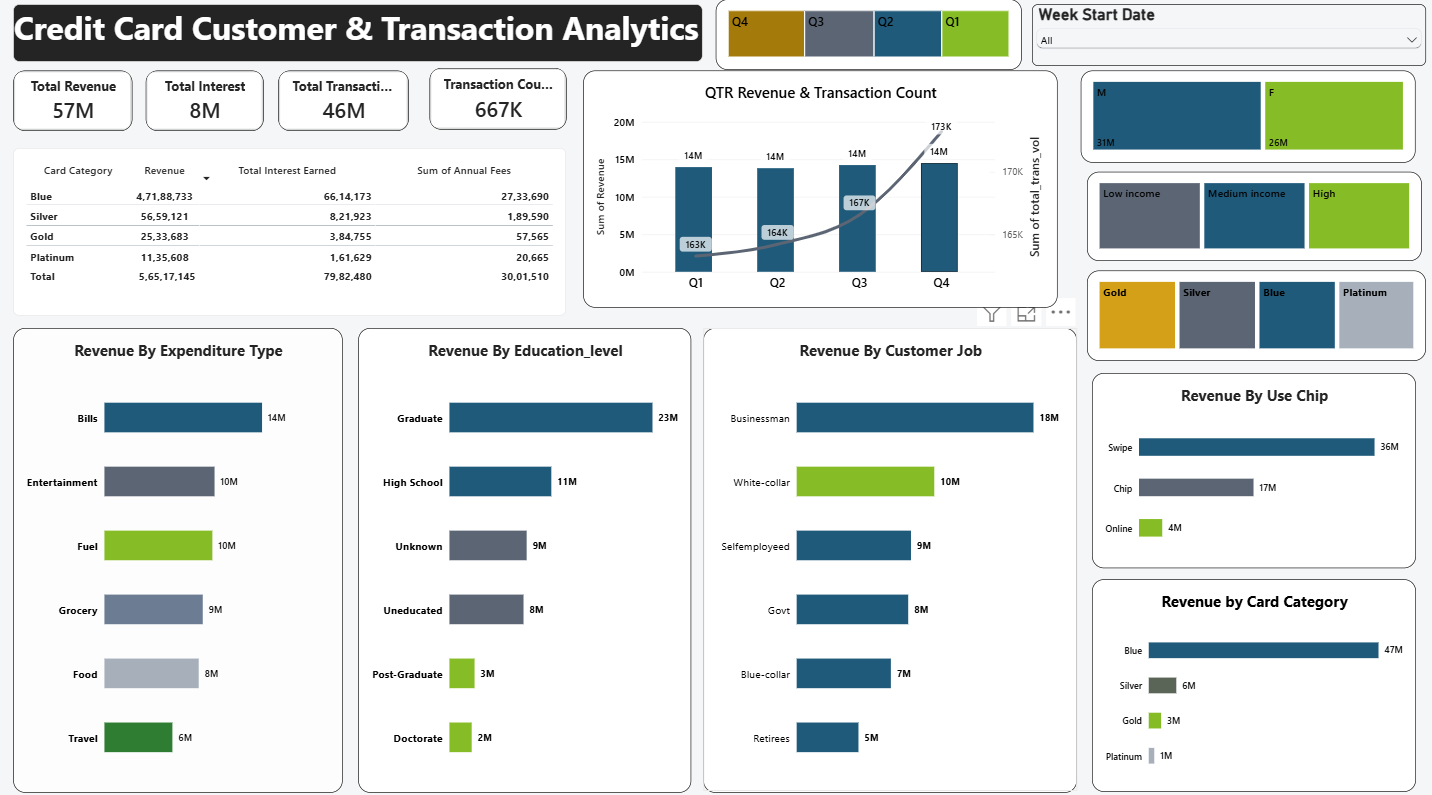

This screenshot's page, from the dashboard's own definition file:
{"tool":"powerbi","page":{"name":"Credit Card Customer & Transaction Analytics","canvas":[1920,1080],"ordinal":0},"visuals":[{"type":"textbox","box":[22,14.7,920.8,77],"z":0},{"type":"cardVisual","fields":{"Data":["Sum(public cc_detail.Revenue)"]},"box":[22,102.7,159.6,80.7],"z":1000},{"type":"cardVisual","fields":{"Data":["Sum(public cc_detail.interest_earned)"]},"box":[198.1,102.7,157.7,80.7],"z":2000},{"type":"cardVisual","fields":{"Data":["Sum(public cc_detail.total_trans_amt)"]},"box":[376,102.7,174.3,80.7],"z":3000},{"type":"cardVisual","fields":{"Data":["Sum(public cc_detail.total_trans_vol)"]},"box":[577.8,100.9,183.4,82.5],"z":4000},{"type":"tableEx","fields":{"Values":["public cc_detail.card_category","Sum(public cc_detail.Revenue)","Sum(public cc_detail.interest_earned)","Sum(public cc_detail.annual_fees)"]},"box":[21.7,206.3,738.3,224.4],"z":5000},{"type":"barChart","title":"Revenue By Expenditure Type","fields":{"Y":["Sum(public cc_detail.Revenue)"],"Category":["public cc_detail.exp_type"]},"box":[21.7,447,439.7,620.7],"z":6000},{"type":"barChart","title":" Revenue By Education_level","fields":{"Category":["public customer_detail.education_level"],"Y":["Sum(public cc_detail.Revenue)"]},"box":[483.2,447,445.2,620.7],"z":7000},{"type":"barChart","title":"Revenue By Customer Job","fields":{"Y":["Sum(public cc_detail.Revenue)"],"Category":["public customer_detail.customer_job"]},"box":[942.8,447,499.5,620.7],"z":8000},{"type":"barChart","title":"Revenue By Use Chip","fields":{"Y":["Sum(public cc_detail.Revenue)"],"Category":["public cc_detail.use_chip"]},"box":[1461.9,508.1,432.9,260.5],"z":9000},{"type":"barChart","title":"Revenue by Card Category","fields":{"Y":["Sum(public cc_detail.Revenue)"],"Category":["public cc_detail.card_category"]},"box":[1461.9,783.2,432.9,284.3],"z":10000},{"type":"lineStackedColumnComboChart","title":"QTR Revenue & Transaction Count","fields":{"Category":["public cc_detail.qtr"],"Y":["Sum(public cc_detail.Revenue)"],"Y2":["Sum(public cc_detail.total_trans_vol)"]},"box":[783.6,103.2,633.4,316.7],"z":11000},{"type":"slicer","fields":{"Values":["public cc_detail.week_start_date"]},"box":[1383,14.7,526.4,82.5],"z":12000},{"type":"treemap","fields":{"Group":["public cc_detail.qtr"],"Values":["Avg(public cc_detail.client_num)"]},"box":[959.3,9.2,409,94.1],"z":13000},{"type":"treemap","fields":{"Group":["public customer_detail.gender"],"Values":["Sum(public cc_detail.Revenue)"]},"box":[1447.2,102.7,447.6,122.9],"z":14000},{"type":"treemap","fields":{"Values":["Avg(public cc_detail.client_num)"],"Group":["public cc_detail.card_category"]},"box":[1456.4,370.5,453.1,121.1],"z":15000},{"type":"treemap","fields":{"Values":["Avg(public cc_detail.client_num)"],"Group":["public customer_detail.IncomeGroup"]},"box":[1456.4,238.5,447.6,119.2],"z":16000}]}

Visuals, with their boxes in screenshot pixels (x1, y1, x2, y2), scaled from the page's 1920x1080 canvas onto the 1432x795 screenshot:
textbox: x1=16 y1=11 x2=703 y2=68
cardVisual - Sum(public cc_detail.Revenue): x1=16 y1=76 x2=135 y2=135
cardVisual - Sum(public cc_detail.interest_earned): x1=148 y1=76 x2=265 y2=135
cardVisual - Sum(public cc_detail.total_trans_amt): x1=280 y1=76 x2=410 y2=135
cardVisual - Sum(public cc_detail.total_trans_vol): x1=431 y1=74 x2=568 y2=135
tableEx - public cc_detail.card_category x Sum(public cc_detail.Revenue): x1=16 y1=152 x2=567 y2=317
"Revenue By Expenditure Type" barChart: x1=16 y1=329 x2=344 y2=786
" Revenue By Education_level" barChart: x1=360 y1=329 x2=692 y2=786
"Revenue By Customer Job" barChart: x1=703 y1=329 x2=1076 y2=786
"Revenue By Use Chip" barChart: x1=1090 y1=374 x2=1413 y2=566
"Revenue by Card Category" barChart: x1=1090 y1=577 x2=1413 y2=786
"QTR Revenue & Transaction Count" lineStackedColumnComboChart: x1=584 y1=76 x2=1057 y2=309
slicer - public cc_detail.week_start_date: x1=1031 y1=11 x2=1424 y2=72
treemap - public cc_detail.qtr x Avg(public cc_detail.client_num): x1=715 y1=7 x2=1021 y2=76
treemap - public customer_detail.gender x Sum(public cc_detail.Revenue): x1=1079 y1=76 x2=1413 y2=166
treemap - Avg(public cc_detail.client_num) x public cc_detail.card_category: x1=1086 y1=273 x2=1424 y2=362
treemap - Avg(public cc_detail.client_num) x public customer_detail.IncomeGroup: x1=1086 y1=176 x2=1420 y2=263
